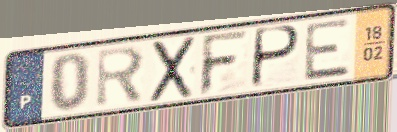0: (46, 50, 92, 115)
E: (301, 16, 353, 84)
F: (197, 27, 252, 98)
P: (248, 23, 303, 91)
R: (94, 43, 148, 111)
X: (147, 33, 198, 106)
